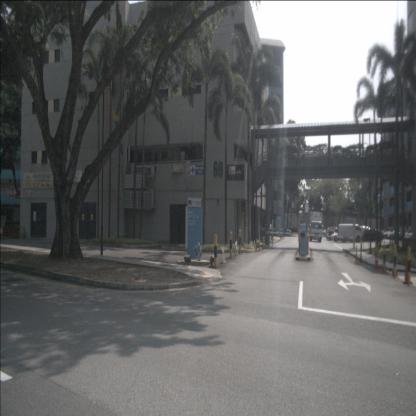movable_object-trafficcone: (402, 256, 412, 284), (392, 255, 397, 277), (374, 249, 379, 270), (354, 246, 358, 264)
vehicle-bicycle: (15, 224, 27, 239)
vehicle-car: (338, 224, 363, 243), (362, 229, 384, 242), (331, 231, 349, 242), (404, 229, 416, 242), (389, 230, 402, 239), (383, 230, 393, 237)
vehicle-truck: (309, 210, 323, 243)
